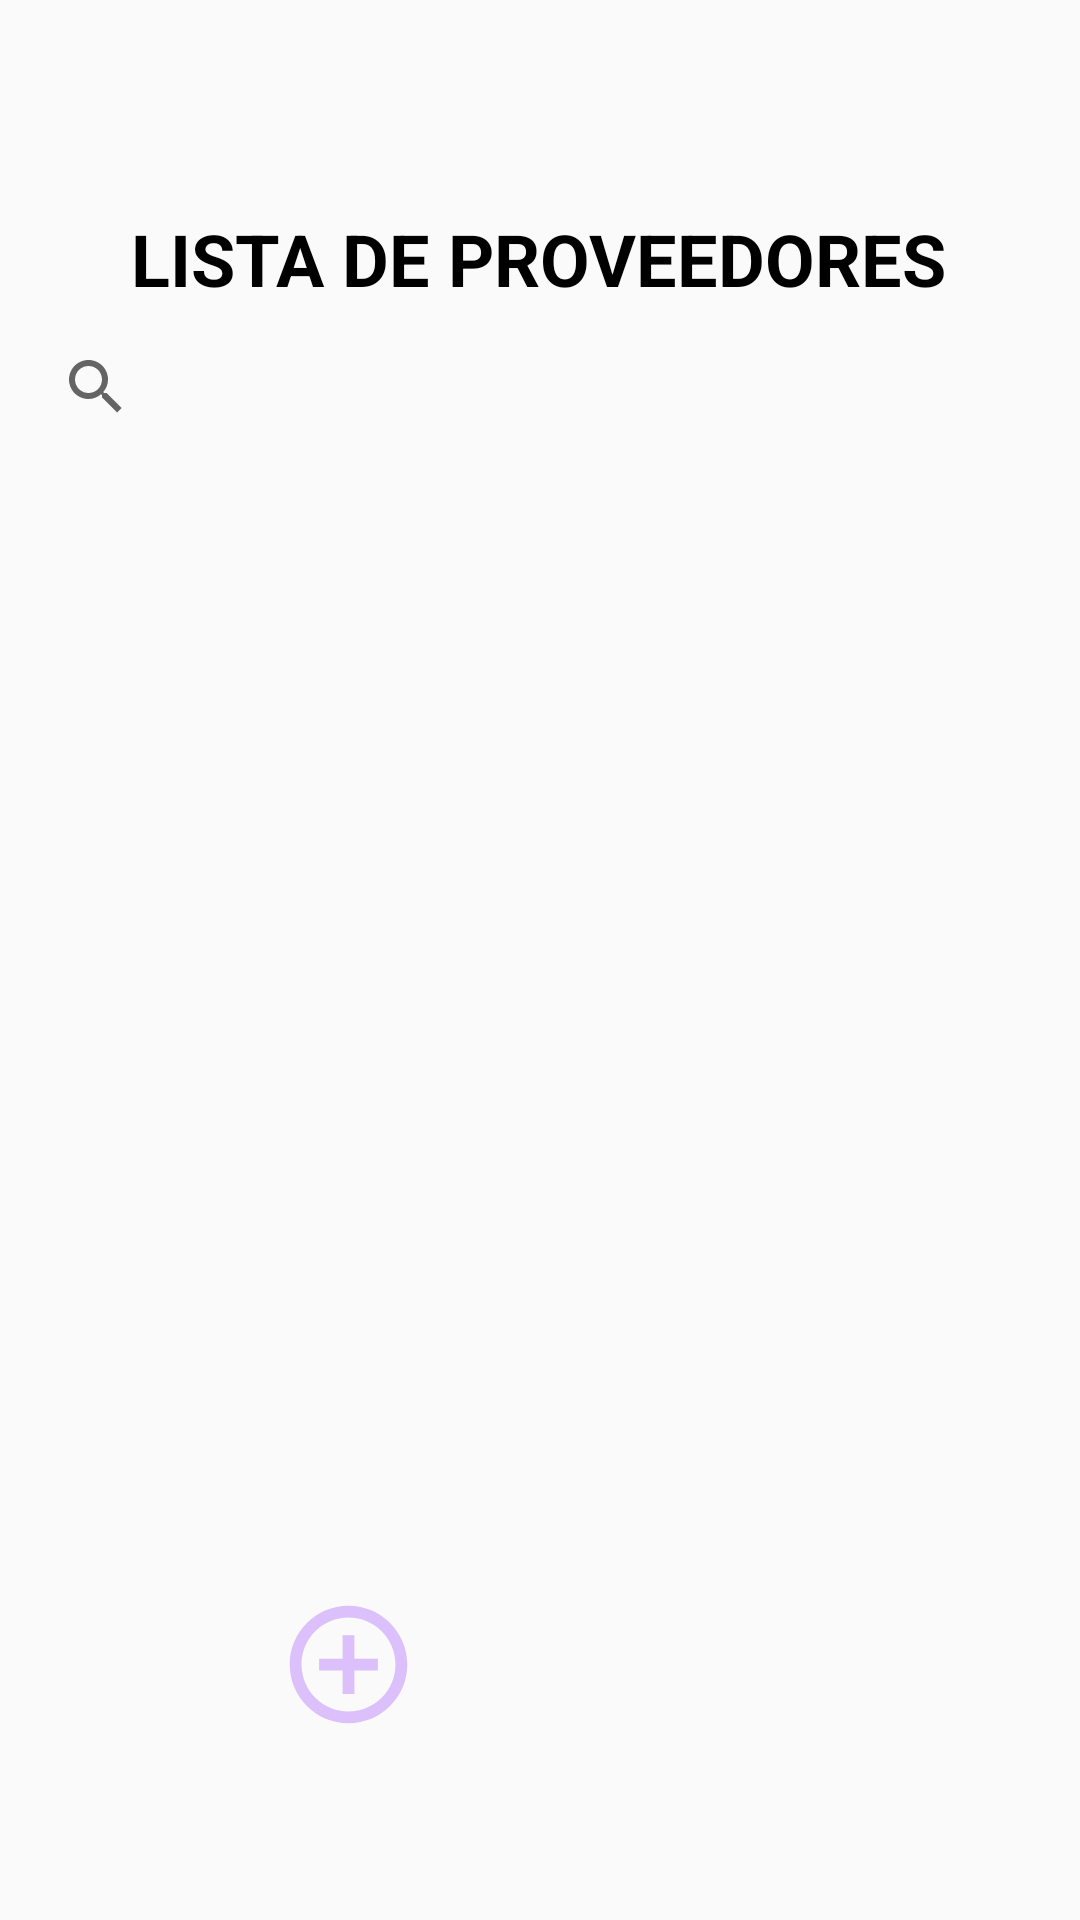

Point at icon controls on the screen. Image size 1080px×1920px, points as [x,y].
add: [348,1664]
